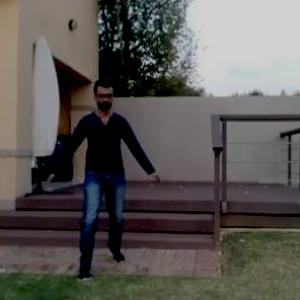land: (42, 69, 166, 285)
